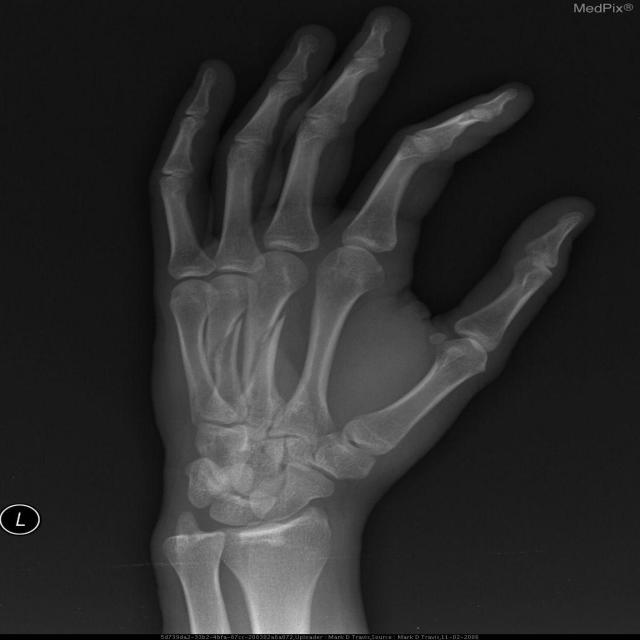fracture: (243, 307, 288, 394), (206, 304, 248, 368)
